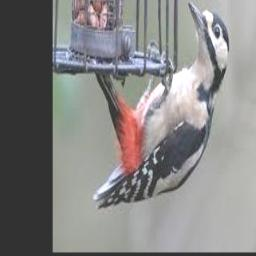Woodpecker: (93, 1, 230, 210)
